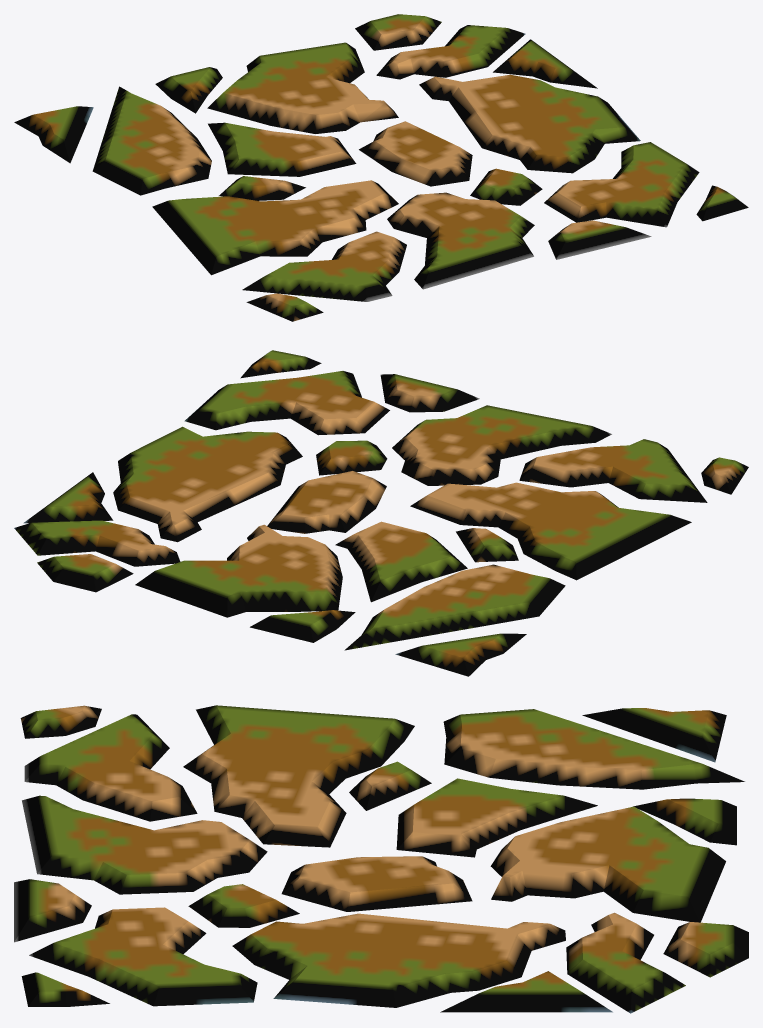
Rendered from deco_gravel_A.FBX.
The picture shows the model from 3 angles, top to bottom: view 1: azimuth 30°, elevation 25°; view 2: azimuth 150°, elevation 25°; view 3: azimuth 270°, elevation 25°; orthographic projection. The views are drawn at different scales.
Parts seen in each view (by area): view 1: deco_gravel_A; view 2: deco_gravel_A; view 3: deco_gravel_A.
Part boxes in pixels (bbox=[...]): deco_gravel_A: bbox=[14, 14, 748, 321]; deco_gravel_A: bbox=[14, 350, 748, 676]; deco_gravel_A: bbox=[14, 705, 748, 1013].
Bounding box in the file's own units: 1.94 × 0.0637 × 1.98.
1 material, 1 textured.
